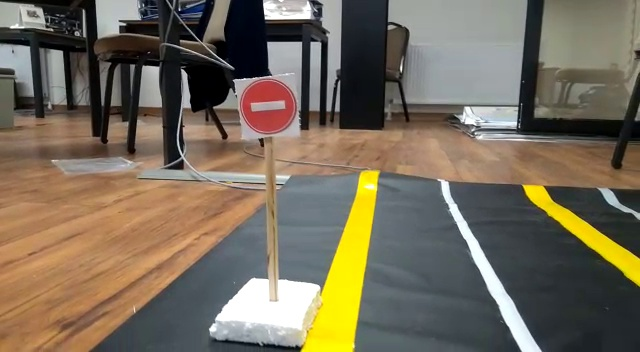girisi_olmayan_yol: (231, 77, 305, 134)
